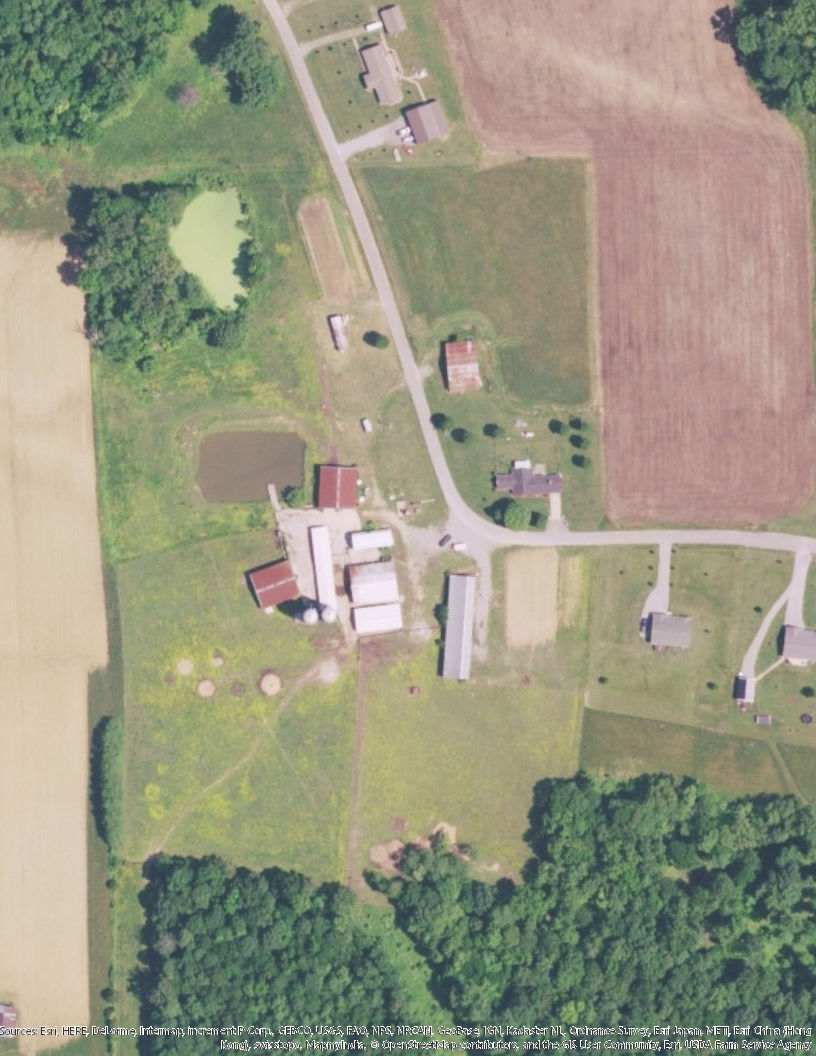cafo: (440, 563, 478, 686), (242, 555, 304, 611), (304, 524, 344, 610), (429, 335, 480, 396), (311, 456, 365, 511), (339, 559, 402, 605), (344, 599, 411, 640)
